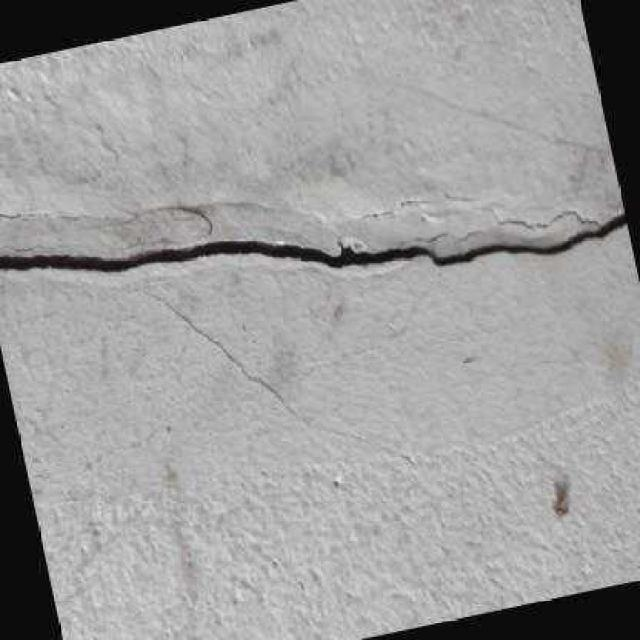D00: (0, 207, 626, 271)
